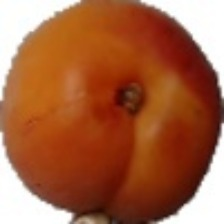apricot: (35, 28, 210, 169)
